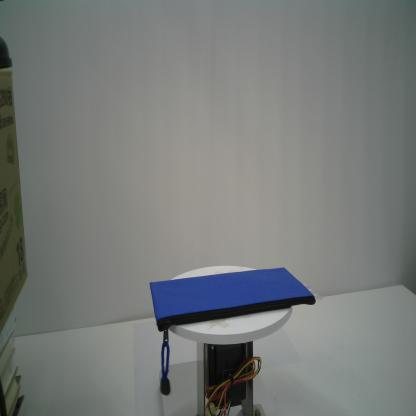Stationery: (149, 267, 316, 396)
